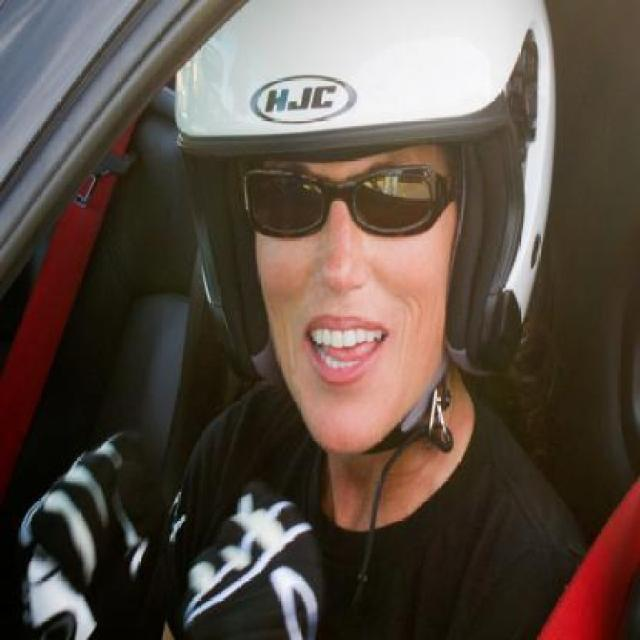face_nomask: (239, 165, 447, 392)
glasses: (234, 145, 475, 243)
hand_glove: (11, 417, 168, 640), (168, 463, 321, 640)
head_helmet: (168, 12, 560, 186)
